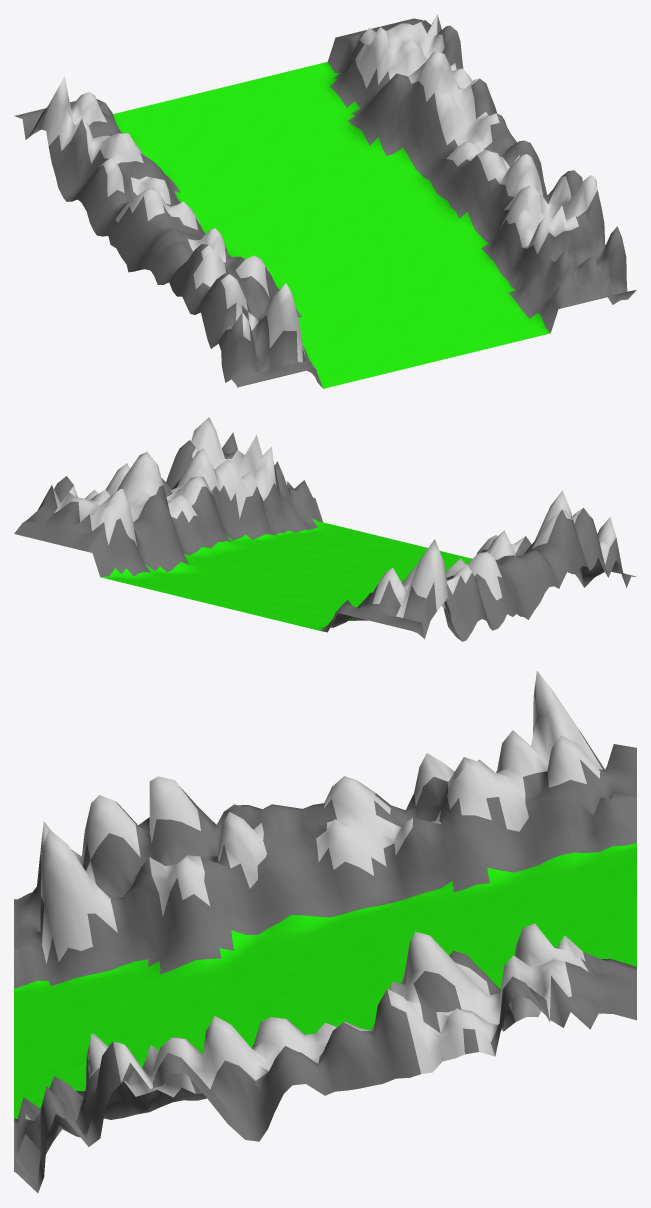
Rendered from HillPartafbxJapan.fbx.
3 renders of one model, top to bottom at view 1: azimuth 30°, elevation 25°; view 2: azimuth 150°, elevation 25°; view 3: azimuth 270°, elevation 25°, orthographic. The views are drawn at different scales.
Parts seen in each view (by area): view 1: HillPart1; view 2: HillPart1; view 3: HillPart1.
Part boxes in pixels (<box>): HillPart1: <box>14,14,636,388</box>; HillPart1: <box>14,417,636,641</box>; HillPart1: <box>14,671,636,1192</box>.
Size of the model in its own units: 15106 by 6930 by 14489.
